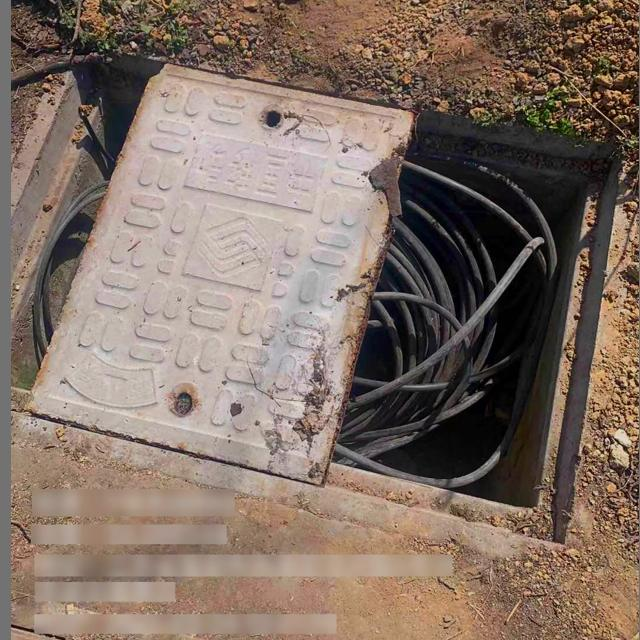lose: (18, 40, 624, 550)
